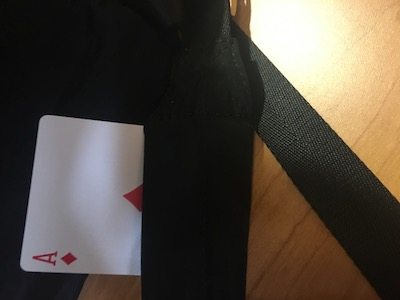AceOfDiamonds: (13, 112, 147, 279)
